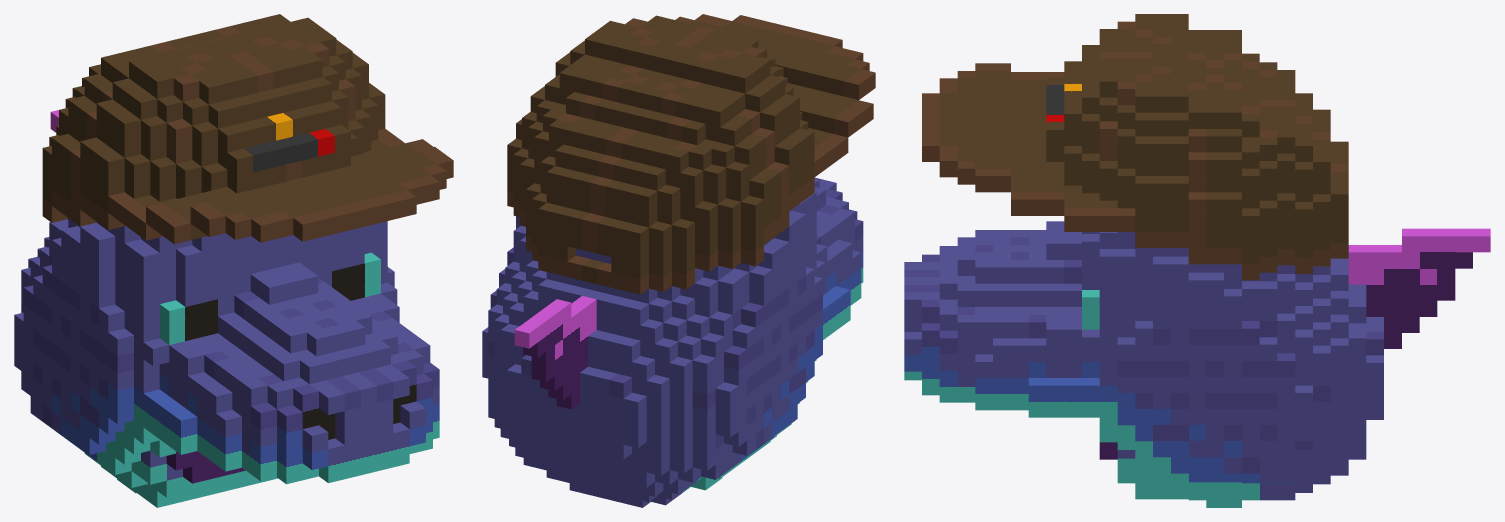
File: wsb hat_red glasses.gltf
3 renders of one model, left to right at view 1: azimuth 30°, elevation 25°; view 2: azimuth 150°, elevation 25°; view 3: azimuth 270°, elevation 25°, orthographic. The views are drawn at different scales.
Visible parts, largest first — view 1: C61_H_WSB_RedG_RBSpec_SkyD_LazerL_VRGg-Mesh; view 2: C61_H_WSB_RedG_RBSpec_SkyD_LazerL_VRGg-Mesh; view 3: C61_H_WSB_RedG_RBSpec_SkyD_LazerL_VRGg-Mesh.
Part boxes in pixels (left/top/right/bottom): C61_H_WSB_RedG_RBSpec_SkyD_LazerL_VRGg-Mesh: left=14, top=14, right=453, bottom=507; C61_H_WSB_RedG_RBSpec_SkyD_LazerL_VRGg-Mesh: left=482, top=14, right=875, bottom=507; C61_H_WSB_RedG_RBSpec_SkyD_LazerL_VRGg-Mesh: left=904, top=14, right=1490, bottom=507.
Size of the model in its own units: 17 by 26 by 33.
Materials: 1 (1 with a texture image).
